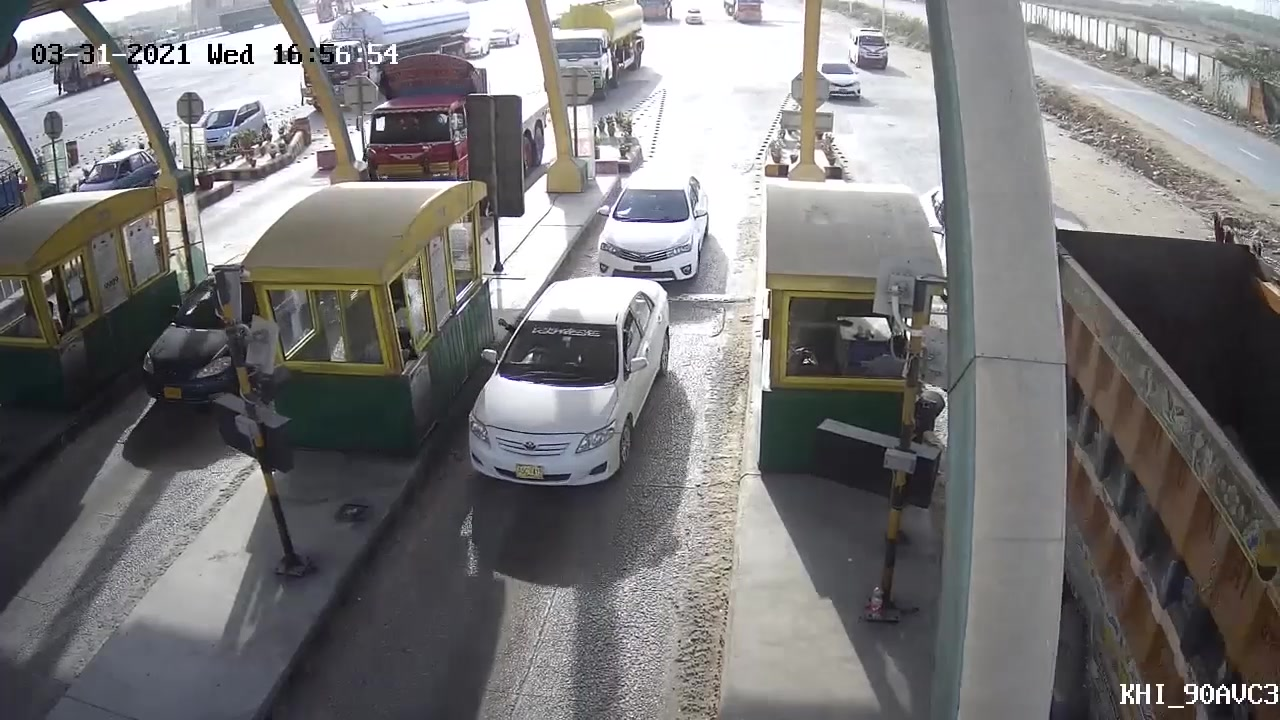F1: (463, 278, 678, 512), (589, 169, 711, 287)
